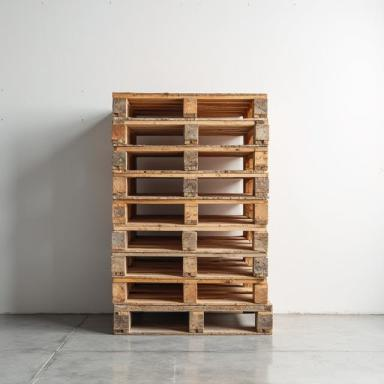pallet: (113, 305, 273, 335), (112, 199, 269, 228), (111, 278, 273, 306), (112, 92, 268, 121), (111, 120, 269, 147), (111, 252, 268, 279), (112, 173, 269, 200), (111, 226, 268, 253), (112, 147, 268, 174), (128, 178, 183, 196), (197, 257, 243, 278), (197, 231, 243, 248), (131, 312, 189, 325), (136, 158, 184, 170), (127, 136, 184, 146), (199, 204, 243, 215), (130, 283, 183, 292), (198, 136, 243, 145), (137, 231, 182, 236), (133, 257, 183, 260), (137, 115, 183, 118), (198, 283, 243, 286)
